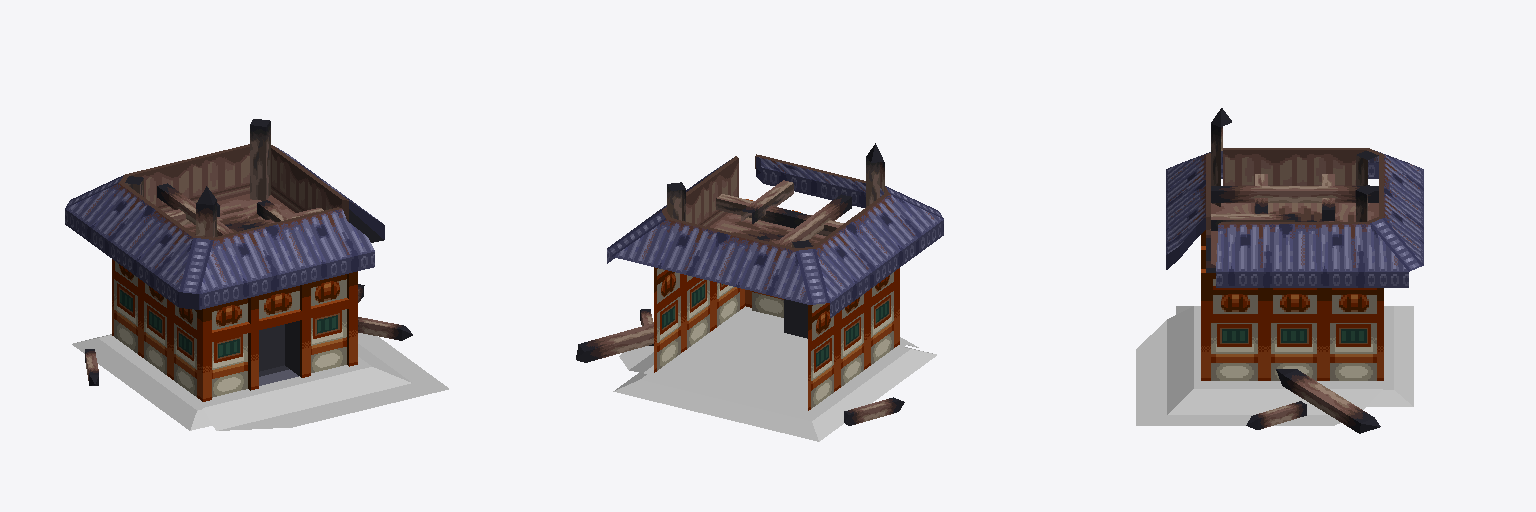
The picture shows the model from 3 angles: view 1: azimuth 30°, elevation 25°; view 2: azimuth 150°, elevation 25°; view 3: azimuth 270°, elevation 25°; orthographic projection.
Visible parts, largest first — view 1: polygon3, polygon2, polygon4, polygon0, polygon1; view 2: polygon2, polygon3, polygon4, polygon0, polygon1; view 3: polygon2, polygon4, polygon3, polygon0, polygon1.
Part boxes in pixels (x1,y1,x2,y2): polygon3: (112,259,357,401); polygon2: (65,147,384,309); polygon4: (85,119,412,385); polygon0: (108,333,448,430); polygon1: (72,334,212,430); polygon2: (607,157,943,317); polygon3: (654,199,899,410); polygon4: (576,143,904,425); polygon0: (619,306,918,413); polygon1: (613,347,936,441); polygon2: (1166,150,1423,287); polygon4: (1206,108,1383,433); polygon3: (1201,230,1383,380); polygon0: (1136,306,1383,425); polygon1: (1176,306,1413,406).
Bounding box in the file's own units: 139 × 98.25 × 116.
Materials: 5 (3 with a texture image).